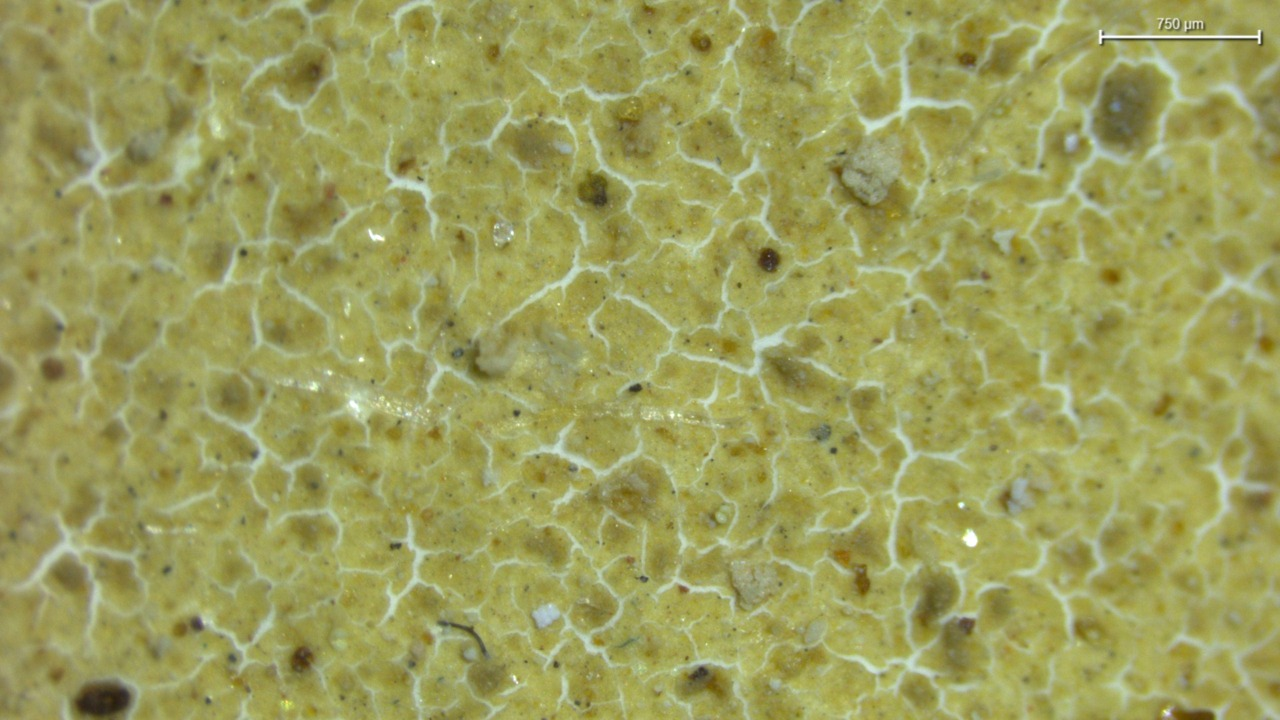microplastic_fragment: (832, 135, 903, 205), (730, 561, 782, 609)
